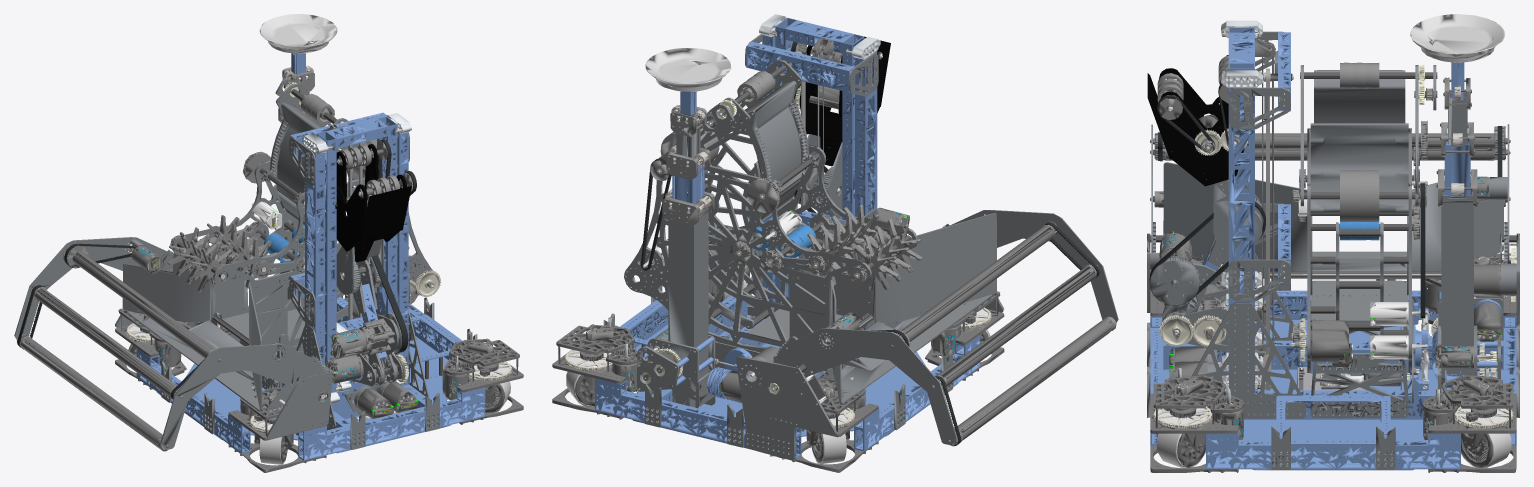
File: hero-gadgeteer-9408.glb
3 renders of one model, left to right at view 1: azimuth 30°, elevation 25°; view 2: azimuth 150°, elevation 25°; view 3: azimuth 270°, elevation 25°, orthographic. The views are drawn at different scales.
Visible parts, largest first — view 1: shooter, frame, intake, elevator, arm, manip, elevator-stage, hood, climb-pad, flywheel; view 2: shooter, intake, frame, climber, elevator, hood, manip, climb-pad, elevator-stage, arm, climb-mid1, climb-mid2 (+1 smaller); view 3: shooter, frame, elevator, climber, intake, arm, manip, hood, climb-pad, climb-mid1, flywheel, climb-mid2 (+2 smaller).
Boxes of the visible parts, x1,y1,x2,y2 form: shooter: (122, 82, 441, 411); frame: (115, 292, 523, 472); intake: (14, 237, 332, 451); elevator: (284, 112, 429, 430); arm: (323, 239, 409, 386); manip: (331, 139, 416, 262); elevator-stage: (316, 116, 397, 392); hood: (261, 78, 376, 207); climb-pad: (259, 14, 337, 53); flywheel: (283, 83, 340, 124); shooter: (624, 99, 996, 404); intake: (736, 210, 1118, 459); frame: (552, 224, 1004, 472); climber: (637, 189, 759, 408); elevator: (652, 14, 901, 401); hood: (661, 60, 818, 181); manip: (790, 36, 890, 166); climb-pad: (645, 48, 731, 91); elevator-stage: (775, 17, 864, 302); arm: (794, 134, 909, 273); climb-mid1: (666, 145, 710, 211); climb-mid2: (670, 105, 706, 165); shooter: (1163, 65, 1503, 417); frame: (1147, 253, 1519, 472); elevator: (1169, 20, 1467, 419); climber: (1362, 169, 1503, 403); intake: (1147, 124, 1519, 322); arm: (1149, 173, 1265, 352); manip: (1147, 55, 1247, 186); hood: (1300, 65, 1436, 206); climb-pad: (1410, 14, 1504, 361); climb-mid1: (1440, 122, 1475, 197); flywheel: (1300, 62, 1437, 88); climb-mid2: (1443, 77, 1471, 147).
Size of the model in its own units: 0.9991 by 0.8249 by 0.7239.
